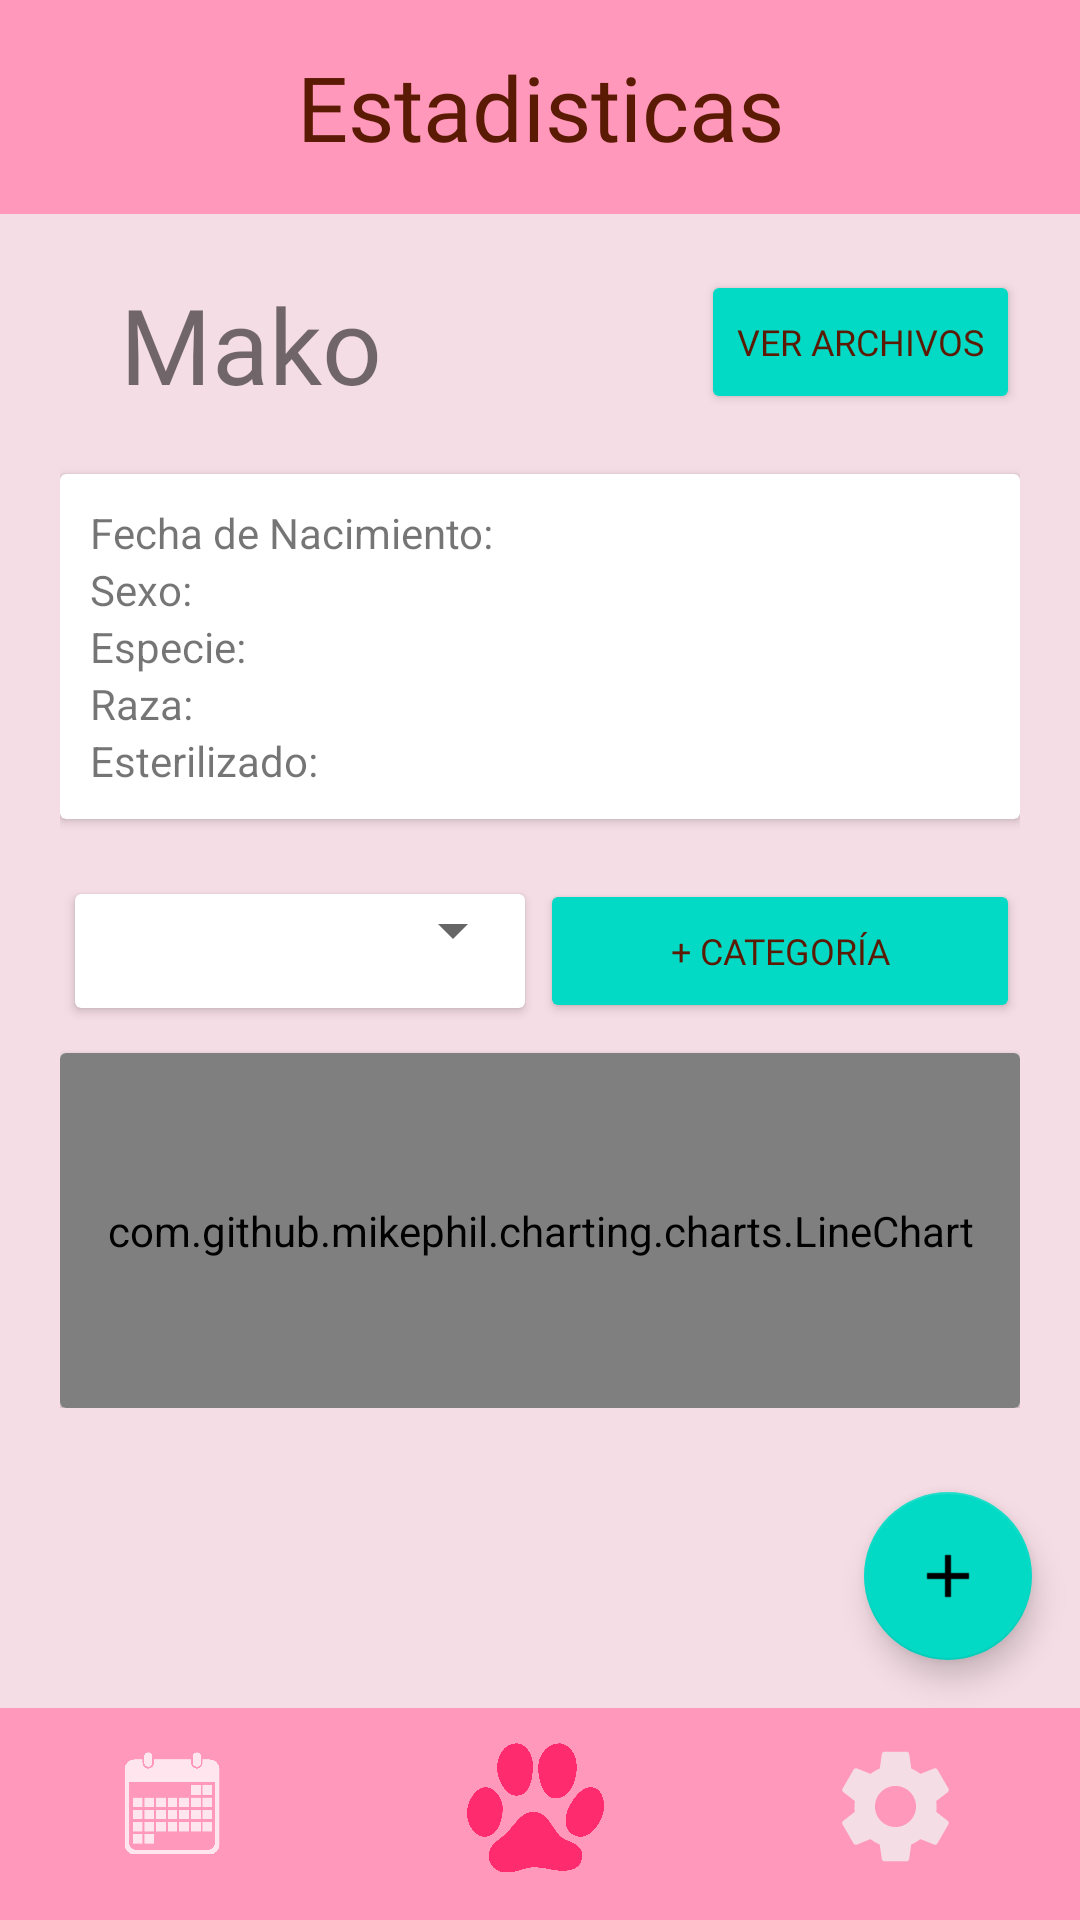

Locate icon controls on the screen. Image size 1080px×1920px, boxes as (x1, y1, x2, y2).
calendar: (125, 1752, 219, 1854)
huella: (467, 1743, 604, 1872)
plus: (864, 1492, 1032, 1660)
settings: (842, 1752, 949, 1861)
